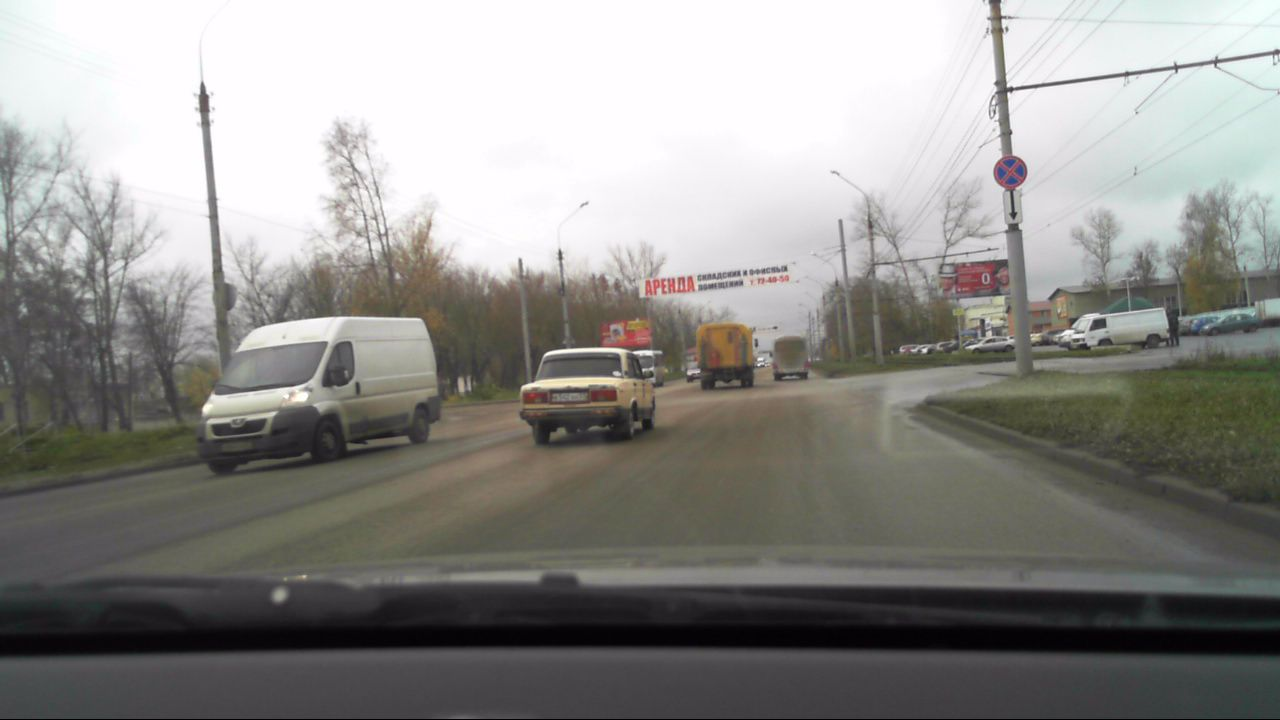No Parking: (992, 155, 1029, 191)
